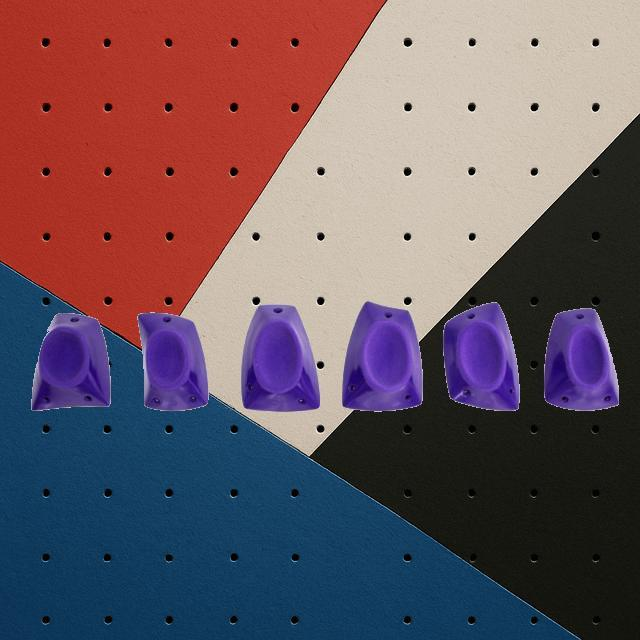Sloper: (341, 299, 423, 411), (240, 303, 320, 411), (442, 302, 520, 411), (542, 306, 620, 410), (30, 312, 110, 411), (136, 311, 208, 411)
